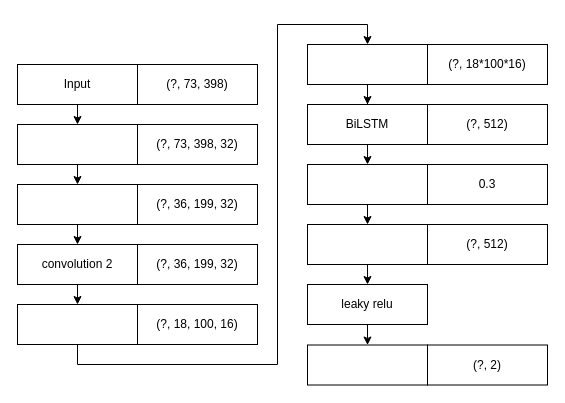
Image size: 565x403. Some labels were removed from this diagram. The shapes that lost their labels are listed below. From the top down, each one's centre as x and y in pixels, then its label:
At point 367,64: "flatten".
At point 77,144: "convolution 1".
At point 77,204: "pooling 1".
At point 367,184: "dropout".
At point 367,244: "batch normalization".
At point 77,324: "pooling 2".
At point 367,364: "output".
